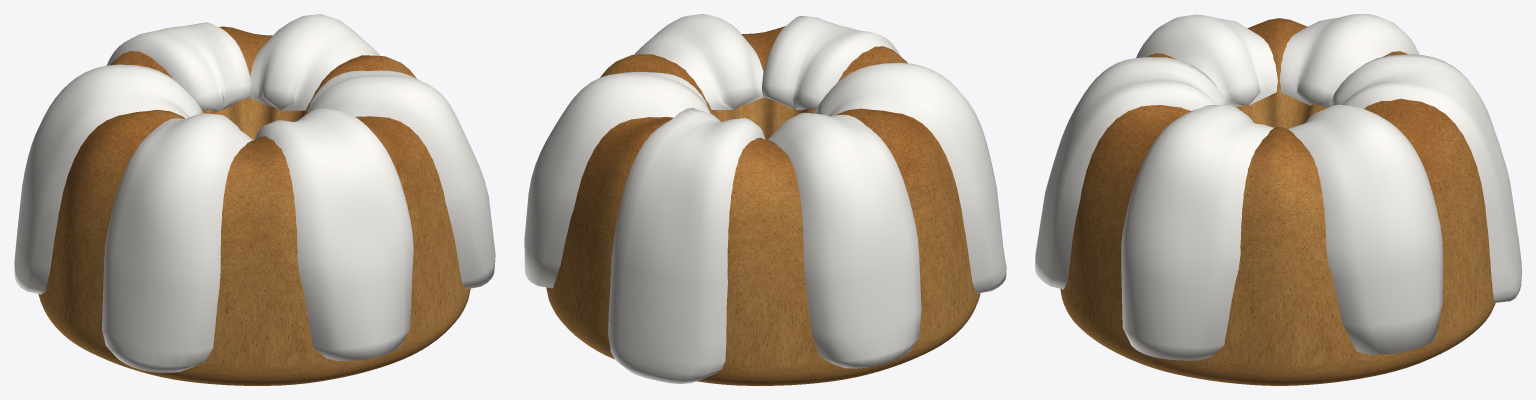
Rendered from bundtlet_vanilla.glb.
3 views of the same model, side by side, from view 1: azimuth 30°, elevation 25°; view 2: azimuth 150°, elevation 25°; view 3: azimuth 270°, elevation 25° (orthographic).
Parts seen in each view (by area): view 1: cake.001, frosting.003, frosting.004, frosting.002, frosting.005, frosting, frosting.001; view 2: cake.001, frosting.001, frosting.002, frosting.003, frosting, frosting.004, frosting.005; view 3: cake.001, frosting.005, frosting, frosting.004, frosting.001, frosting.002, frosting.003.
Part boxes in pixels (x1,y1,x2,y2): cake.001: (38, 26, 470, 385); frosting.003: (102, 113, 253, 372); frosting.004: (255, 108, 413, 360); frosting.002: (14, 64, 203, 294); frosting.005: (307, 70, 495, 289); frosting: (250, 14, 380, 110); frosting.001: (106, 22, 251, 111); cake.001: (546, 26, 980, 385); frosting.001: (608, 108, 765, 383); frosting.002: (767, 112, 921, 368); frosting.003: (815, 62, 1006, 293); frosting: (524, 71, 710, 288); frosting.004: (762, 16, 900, 109); frosting.005: (634, 14, 763, 109); cake.001: (1060, 18, 1495, 385); frosting.005: (1121, 105, 1273, 360); frosting: (1288, 104, 1442, 354); frosting.004: (1035, 57, 1227, 289); frosting.001: (1330, 54, 1521, 302); frosting.002: (1279, 14, 1419, 106); frosting.003: (1136, 14, 1277, 106).
Size of the model in its own units: 0.1038 by 0.0604 by 0.1136.
2 materials, 1 textured.
